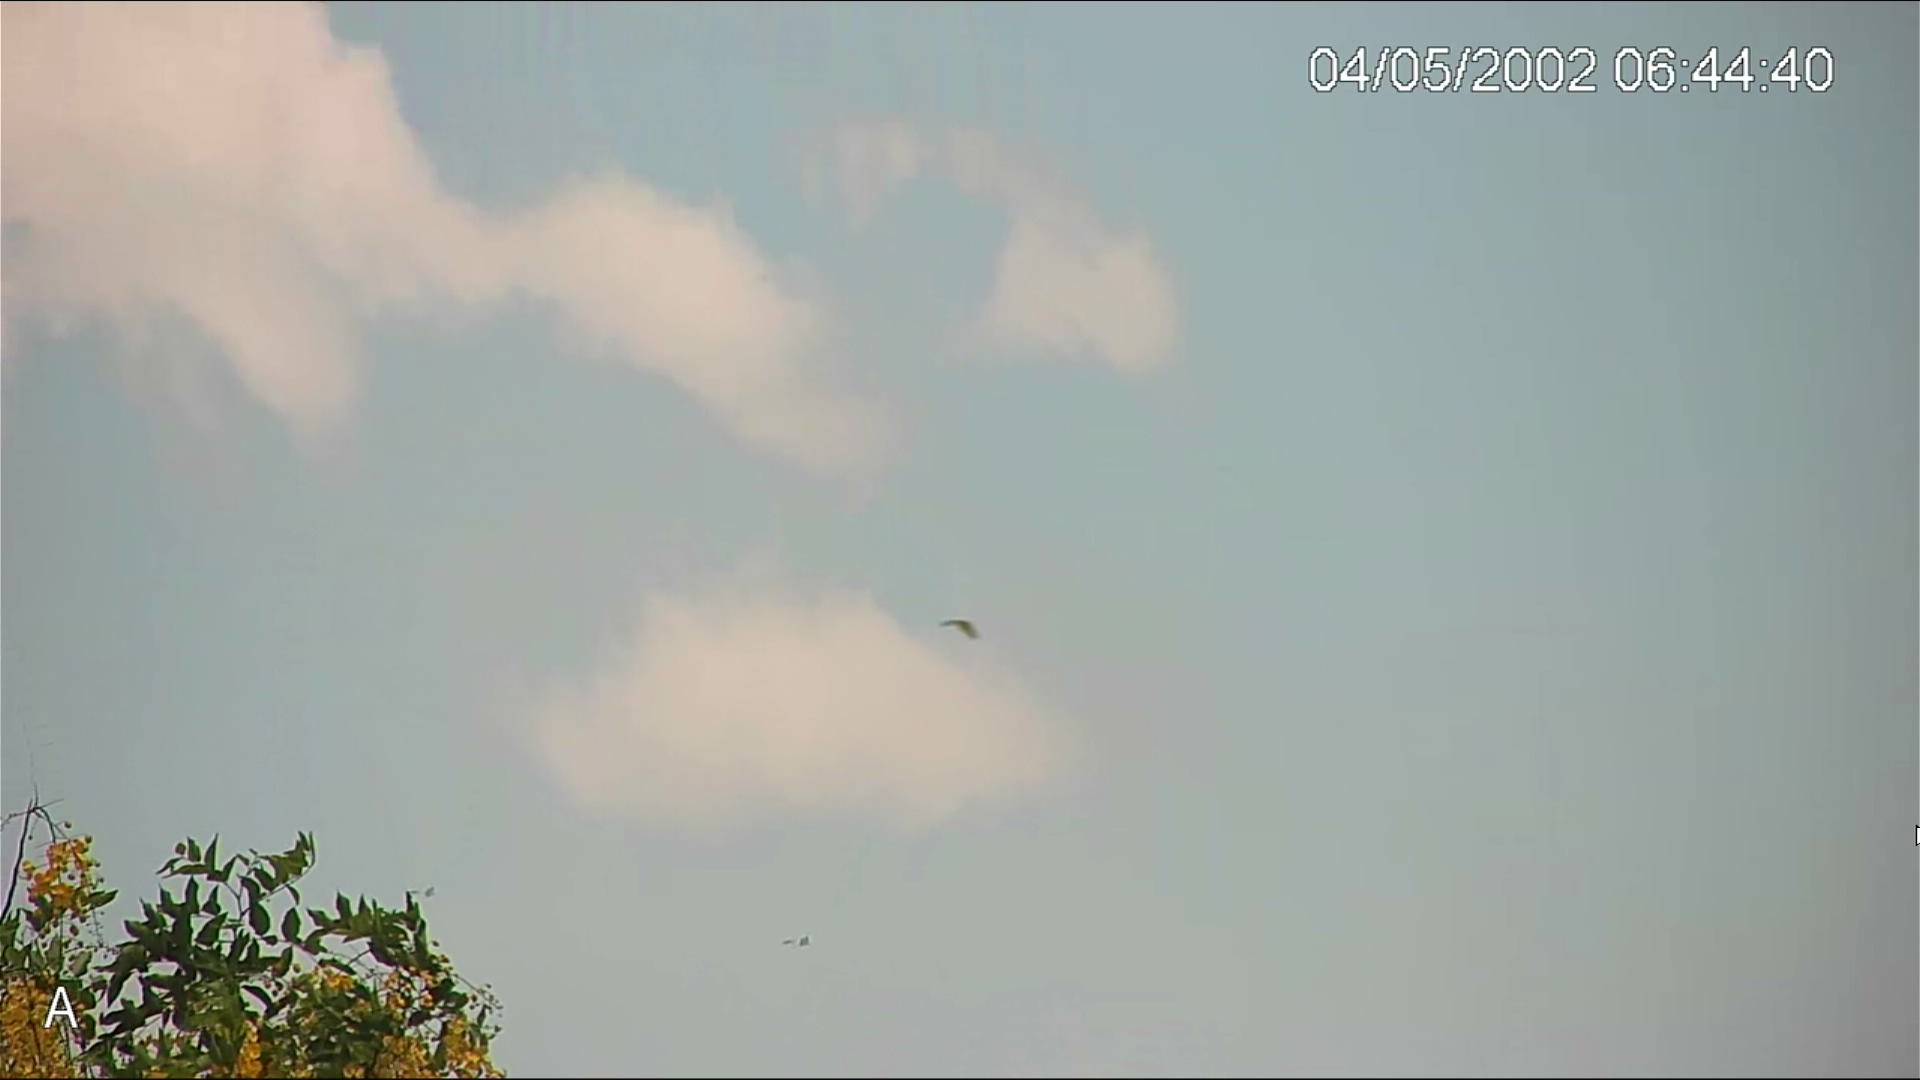SU_30: (783, 934, 812, 949)
